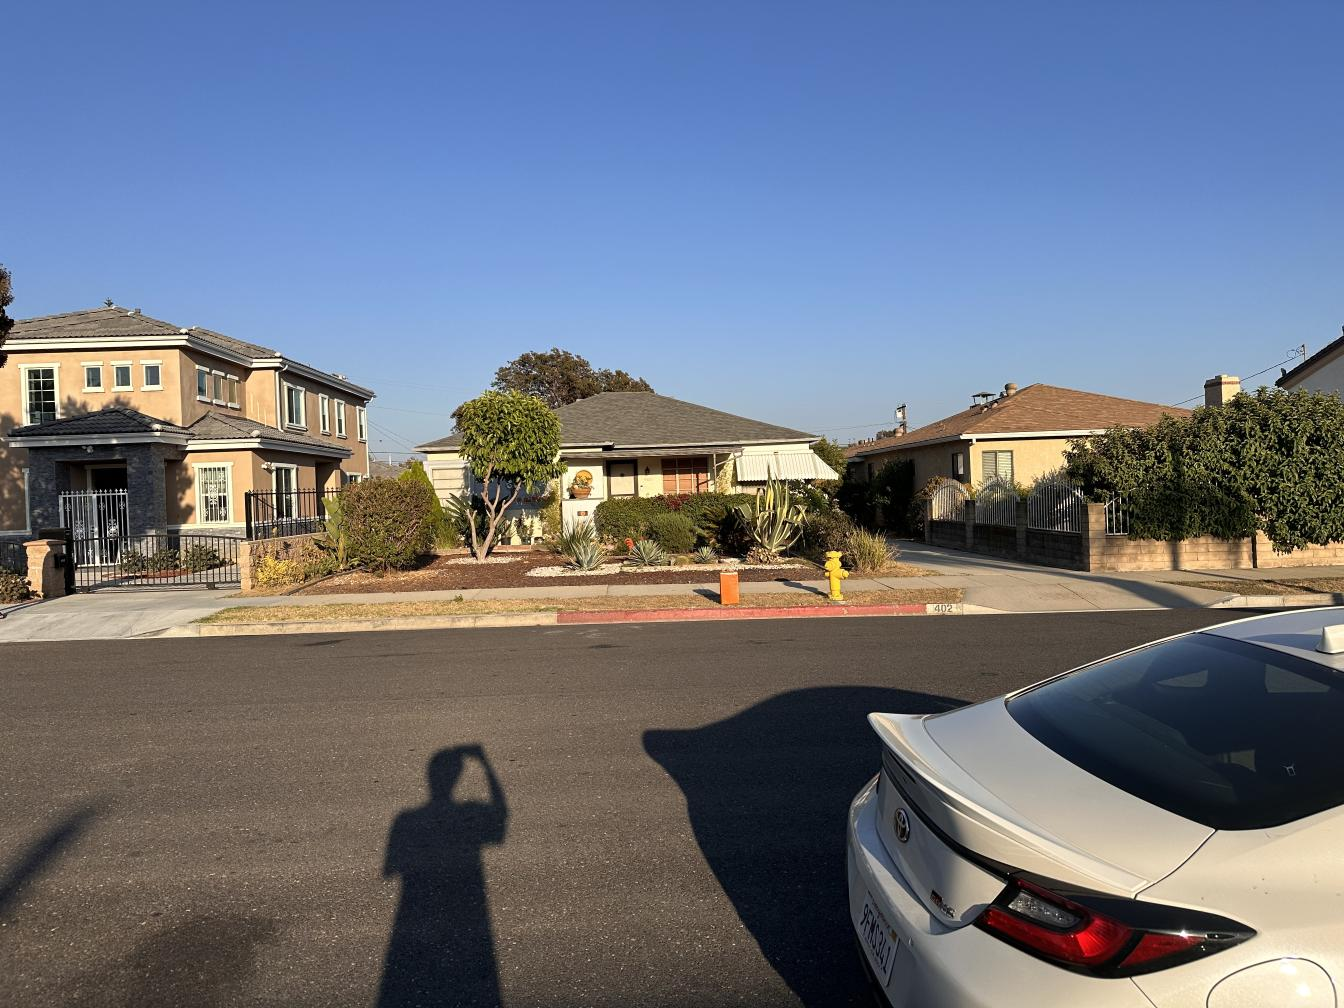curbs-laRr: (183, 610, 555, 642)
orange box: (720, 570, 739, 607)
